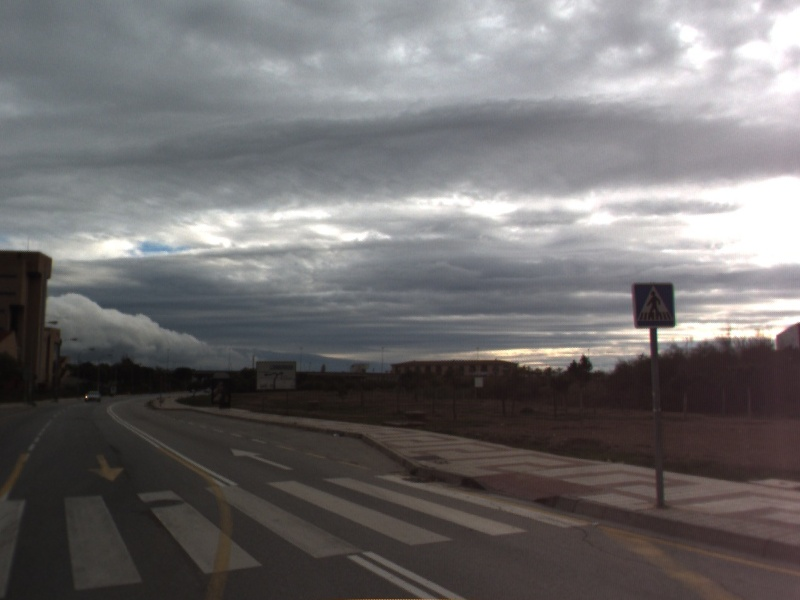STRAIGHT: (229, 446, 296, 472)
